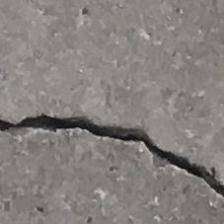Crack: (0, 103, 224, 200)
